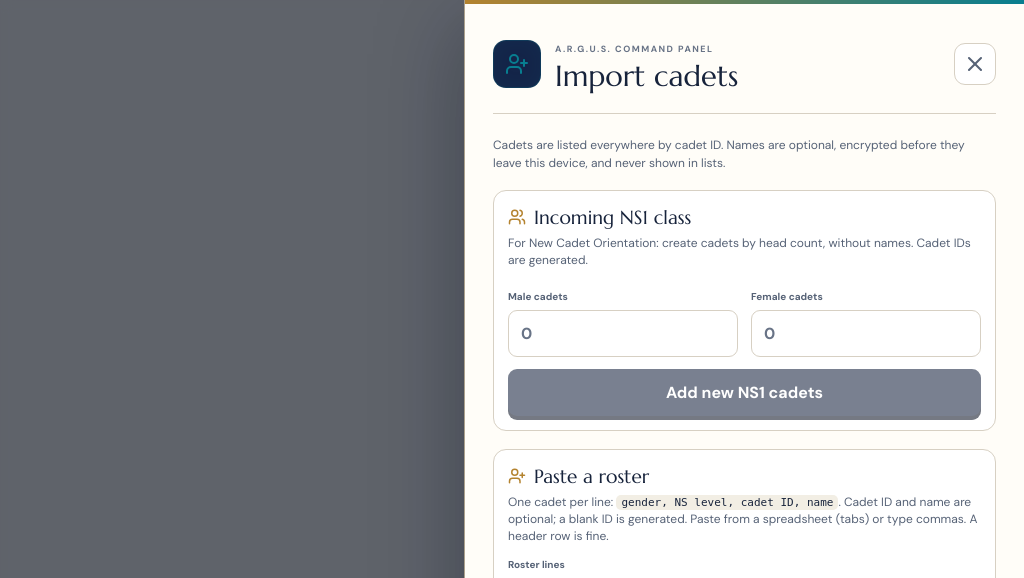
it: RosterImportPanel › imports more than 200 cadets in chunks the controller accepts
In the number field labelled "Male cadets": [623, 333] box [508,310,738,357], type "130"
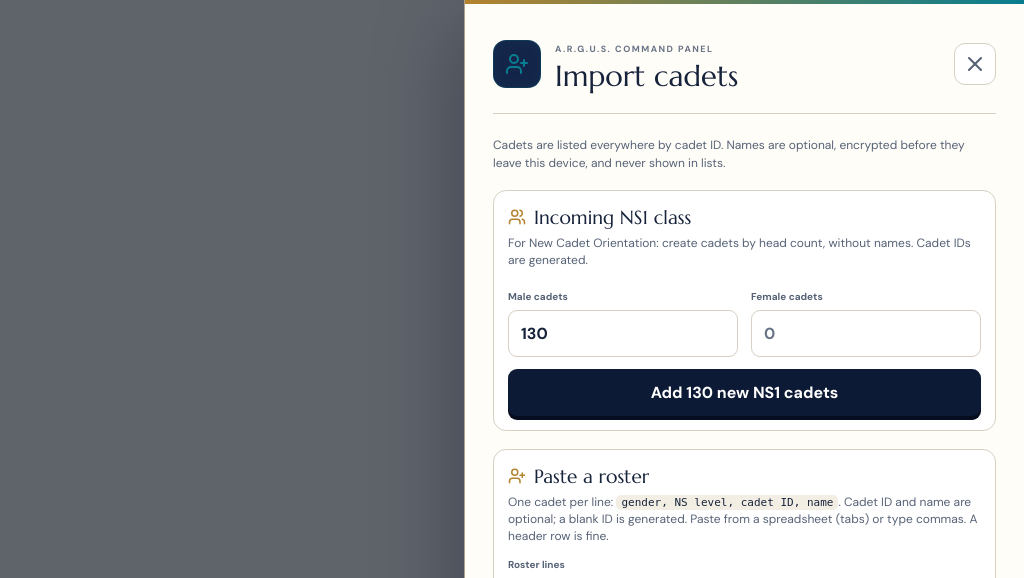
In the number field labelled "Female cadets": [866, 333] box [751,310,981,357], type "120"
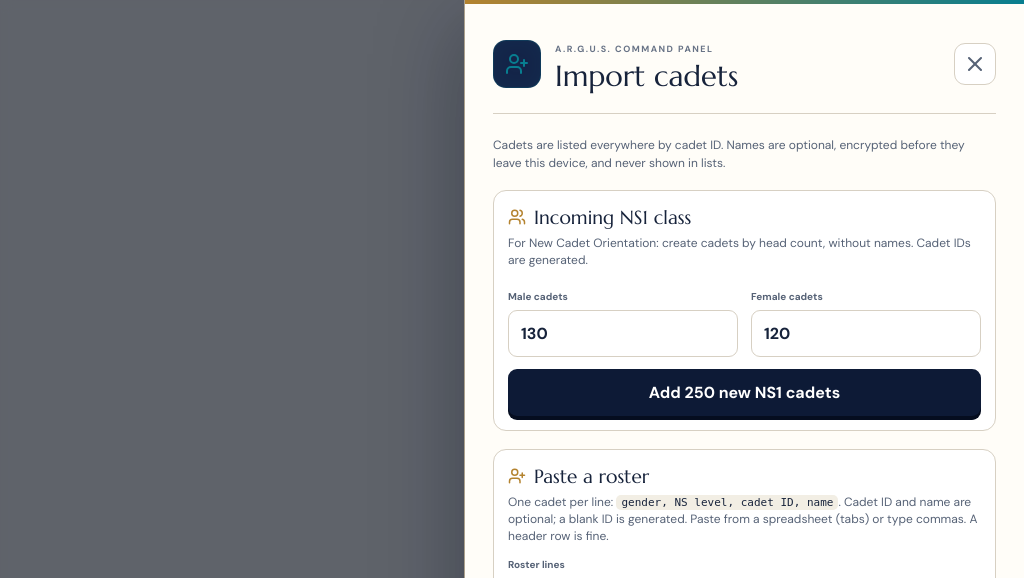
Click the button "Add 250 new NS1 cadets": [744, 392] box [508,369,981,416]
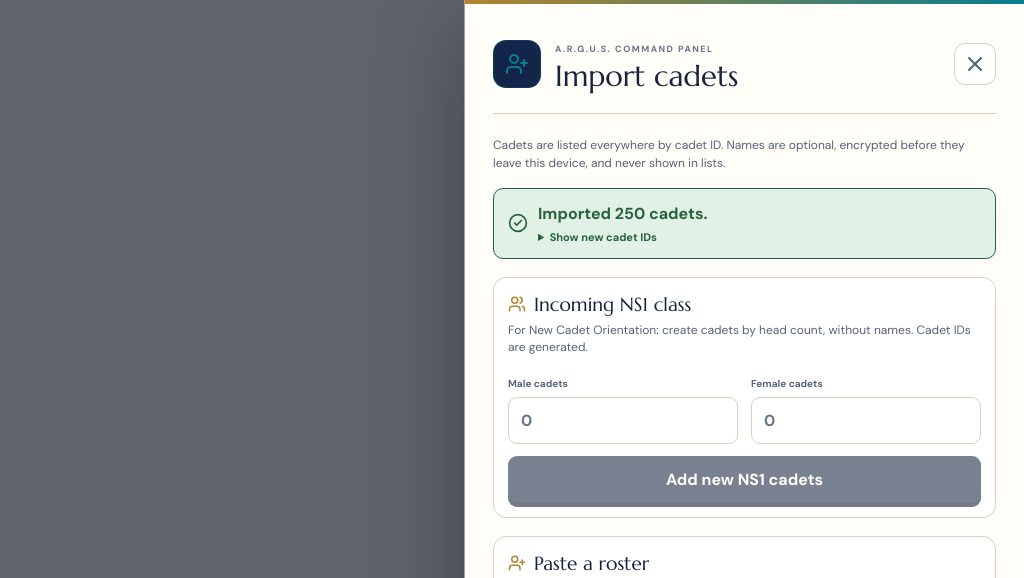
Expected: the message shows "Imported 250 cadets.", [493,188,996,259]
